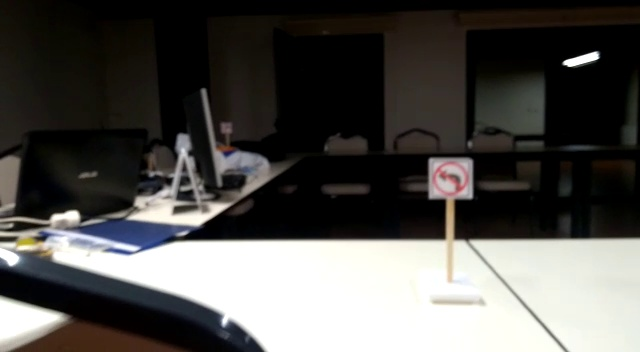sola_donulmez: (428, 156, 476, 201)
